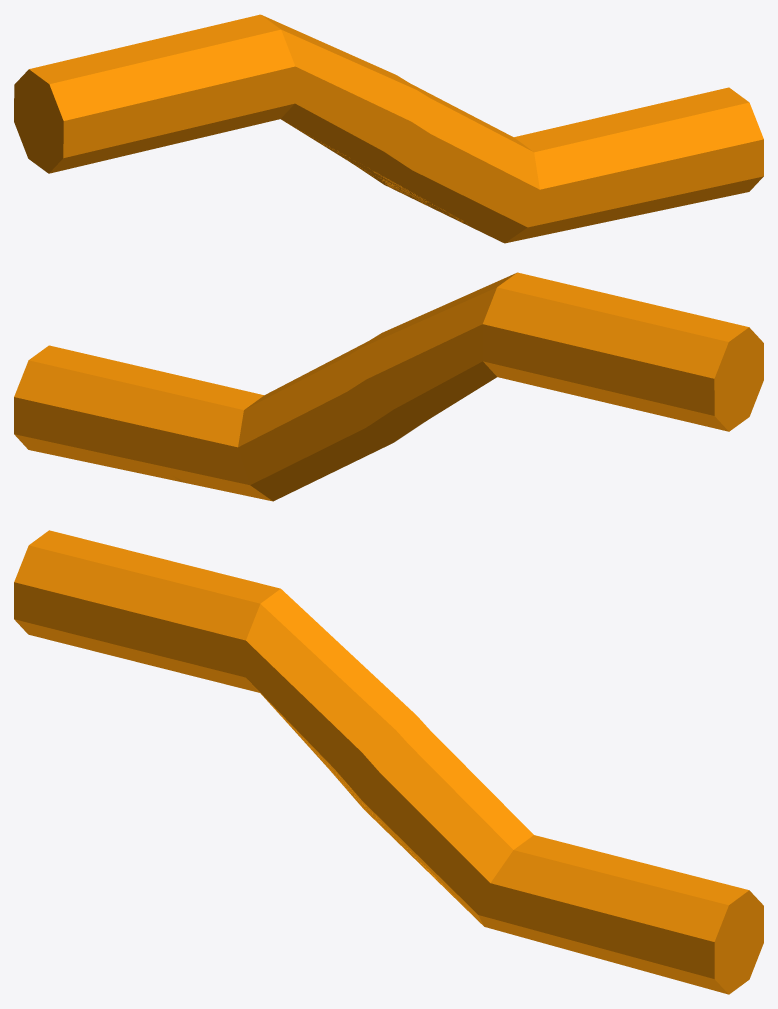
File: SlopeBentWire.fbx
The picture shows the model from 3 angles, top to bottom: view 1: azimuth 30°, elevation 25°; view 2: azimuth 150°, elevation 25°; view 3: azimuth 330°, elevation 25°; orthographic projection.
Visible parts, largest first — view 1: Cylinder; view 2: Cylinder; view 3: Cylinder.
Boxes of the visible parts, x1,y1,x2,y2 form: Cylinder: [14, 14, 763, 243]; Cylinder: [14, 272, 763, 501]; Cylinder: [14, 530, 763, 994].
Bounding box in the file's own units: 1513 × 575 × 185.
1 material, 1 textured.
